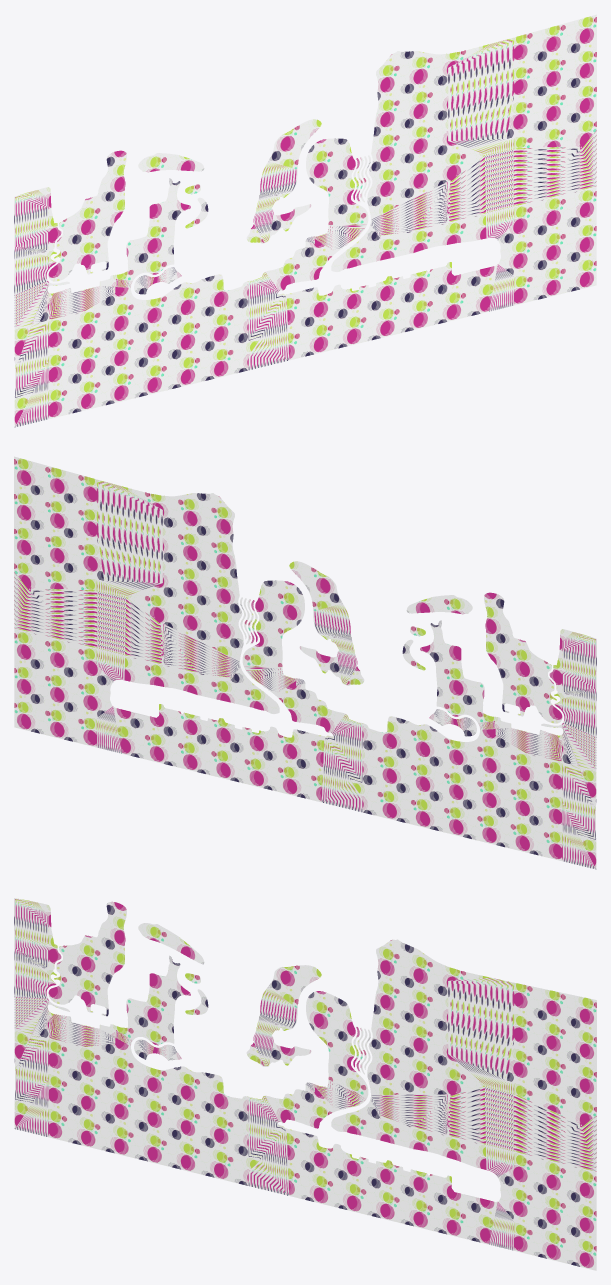
Rendered from kinoko01.glb.
The picture shows the model from 3 angles, top to bottom: view 1: azimuth 30°, elevation 25°; view 2: azimuth 150°, elevation 25°; view 3: azimuth 330°, elevation 25°; orthographic projection.
Visible parts, largest first — view 1: kinoko01; view 2: kinoko01; view 3: kinoko01.
Boxes of the visible parts, x1=… form: kinoko01: x1=14, y1=14, x2=596, y2=427; kinoko01: x1=14, y1=456, x2=596, y2=869; kinoko01: x1=14, y1=898, x2=596, y2=1270.
Size of the model in its own units: 3507 by 1627 by 1.
Materials: 1 (1 with a texture image).
